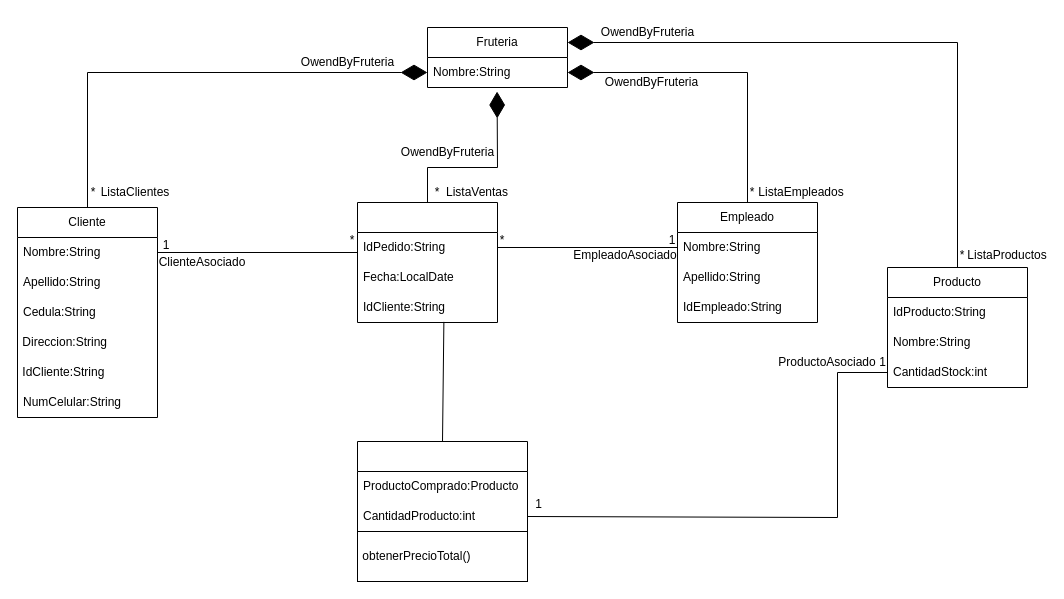
Image size: 1064x599. Some labels were removed from this diagram. Here are the shapes that lost their labels. From the top down, the box of each, then its label:
(356, 202, 498, 322): Venta
(356, 440, 528, 532): DetalleVenta
